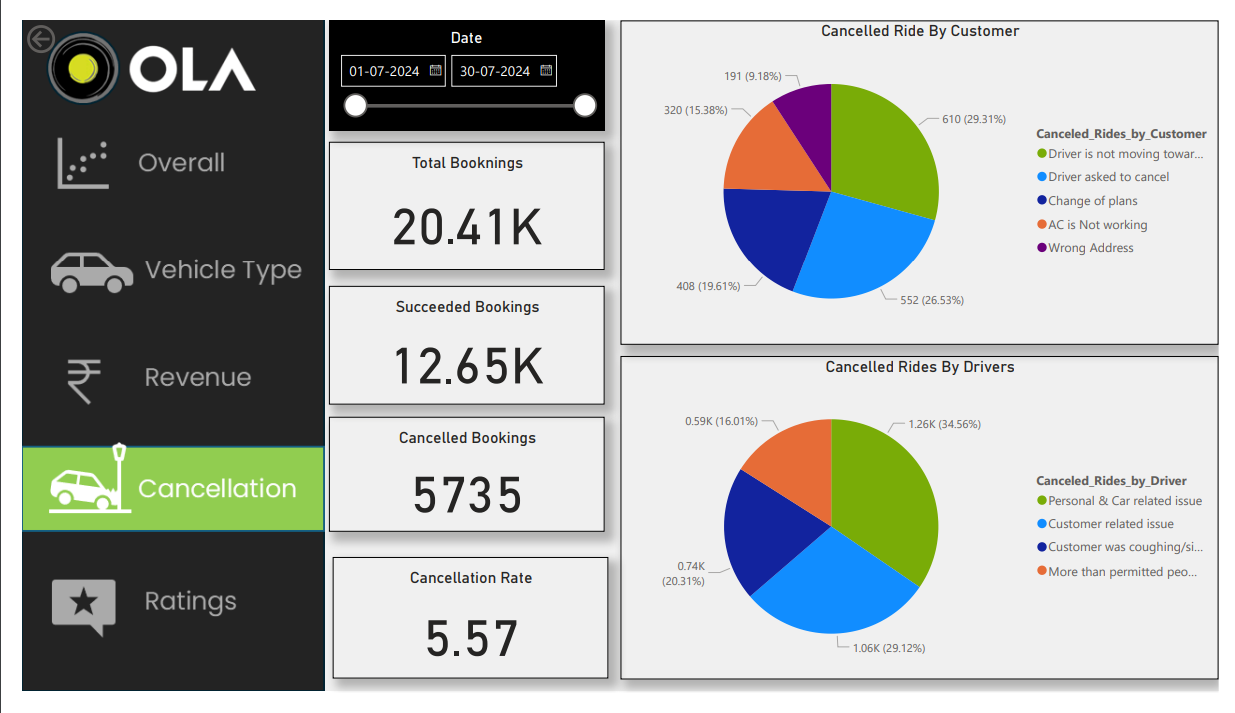

The dashboard page shown, as its layout file describes it:
{"tool":"powerbi","page":{"name":"Cancellation","canvas":[1280,720],"ordinal":3},"visuals":[{"type":"actionButton","box":[0,221.7,325,91.7],"z":0},{"type":"actionButton","box":[0,333.3,325,91.7],"z":1000},{"type":"actionButton","box":[0,575,325,91.7],"z":2000},{"type":"actionButton","box":[1.7,110,325,91.7],"z":3000},{"type":"pieChart","title":"Cancelled Ride By Customer","fields":{"Y":["CountNonNull(July.Canceled_Rides_by_Customer)"],"Category":["July.Canceled_Rides_by_Customer"]},"box":[640,0,640,348.3],"z":4000},{"type":"pieChart","title":"Cancelled Rides By Drivers","fields":{"Category":["July.Canceled_Rides_by_Driver"],"Y":["CountNonNull(July.Canceled_Rides_by_Driver)"]},"box":[640,360,640,346],"z":5000},{"type":"slicer","title":"Date","fields":{"Values":["July.Date"]},"box":[327.5,0,295,117.5],"z":6000},{"type":"card","title":"Succeeded Bookings","fields":{"Values":["CountNonNull(July.Booking_ID)"]},"box":[328.3,285,295,126.7],"z":7000},{"type":"card","title":"Total Booknings","fields":{"Values":["CountNonNull(July.Booking_ID)"]},"box":[328.3,130,295,138.3],"z":8000},{"type":"card","title":"Cancelled Bookings","fields":{"Values":["CountNonNull(July.Booking_ID)"]},"box":[328.3,425,295,123.3],"z":9000},{"type":"card","title":"Cancellation Rate","fields":{"Values":["July.CanceledPercentage"]},"box":[331.7,575,295,130],"z":10000},{"type":"actionButton","box":[0,0,100,40],"z":11000}]}

Visuals, with their boxes in screenshot pixels (x1, y1, x2, y2), scaled from the page's 1280x720 canvas onto the 1235x713 screenshot:
actionButton: crop(0, 220, 314, 310)
actionButton: crop(0, 330, 314, 421)
actionButton: crop(0, 569, 314, 660)
actionButton: crop(2, 109, 315, 200)
"Cancelled Ride By Customer" pieChart: crop(618, 0, 1234, 345)
"Cancelled Rides By Drivers" pieChart: crop(618, 356, 1234, 699)
"Date" slicer: crop(316, 0, 601, 116)
"Succeeded Bookings" card: crop(317, 282, 601, 408)
"Total Booknings" card: crop(317, 129, 601, 266)
"Cancelled Bookings" card: crop(317, 421, 601, 543)
"Cancellation Rate" card: crop(320, 569, 605, 698)
actionButton: crop(0, 0, 96, 40)
